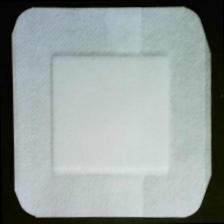Dressing: (11, 5, 218, 221)
